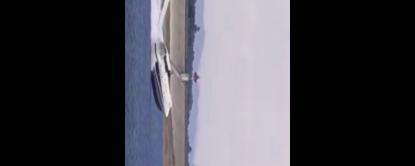AG600: (151, 0, 185, 117)
